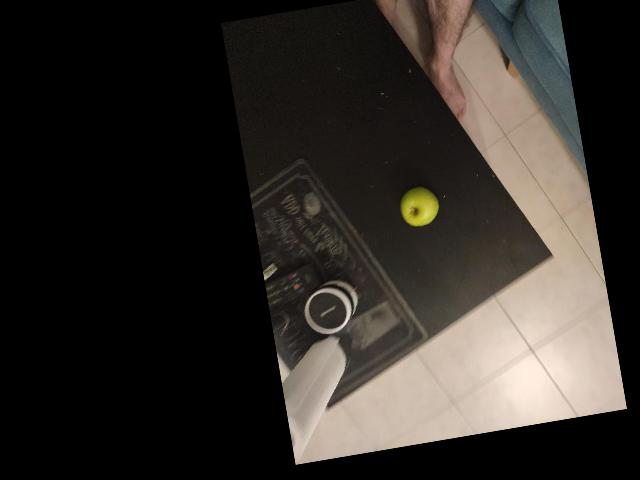apple: (470, 218, 536, 285)
